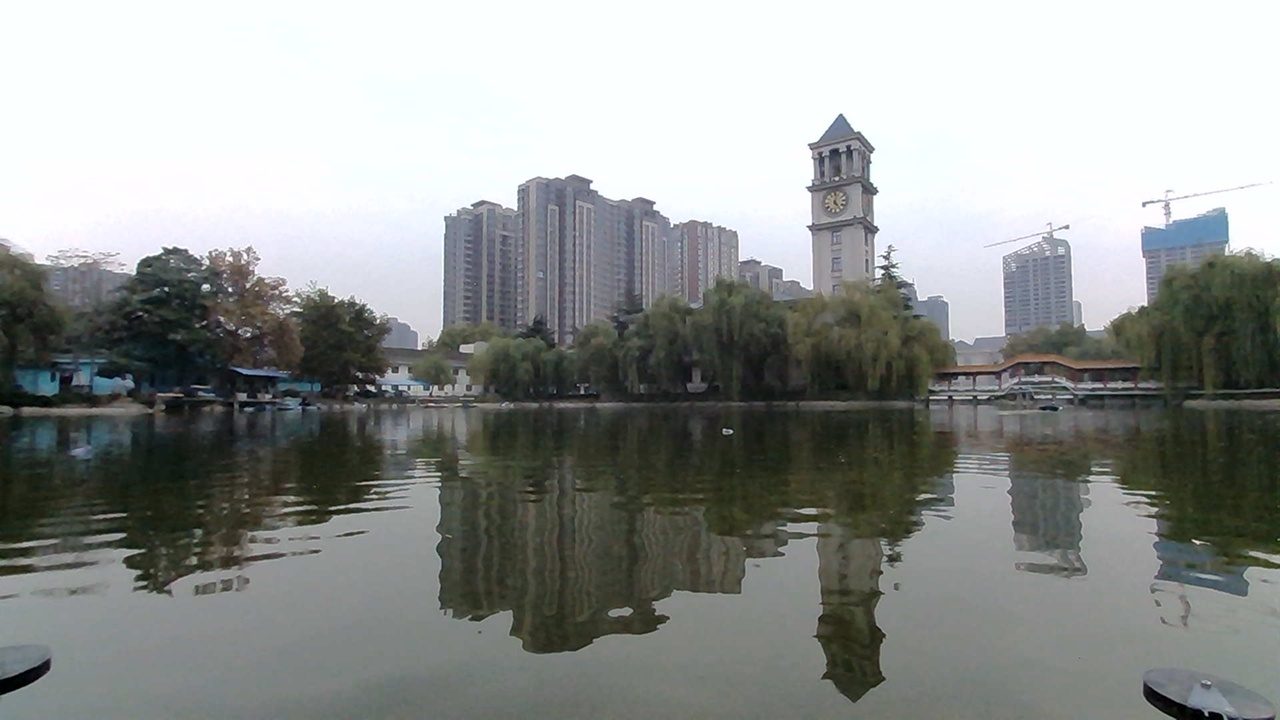bottle: (73, 429, 122, 466), (705, 413, 748, 442)
